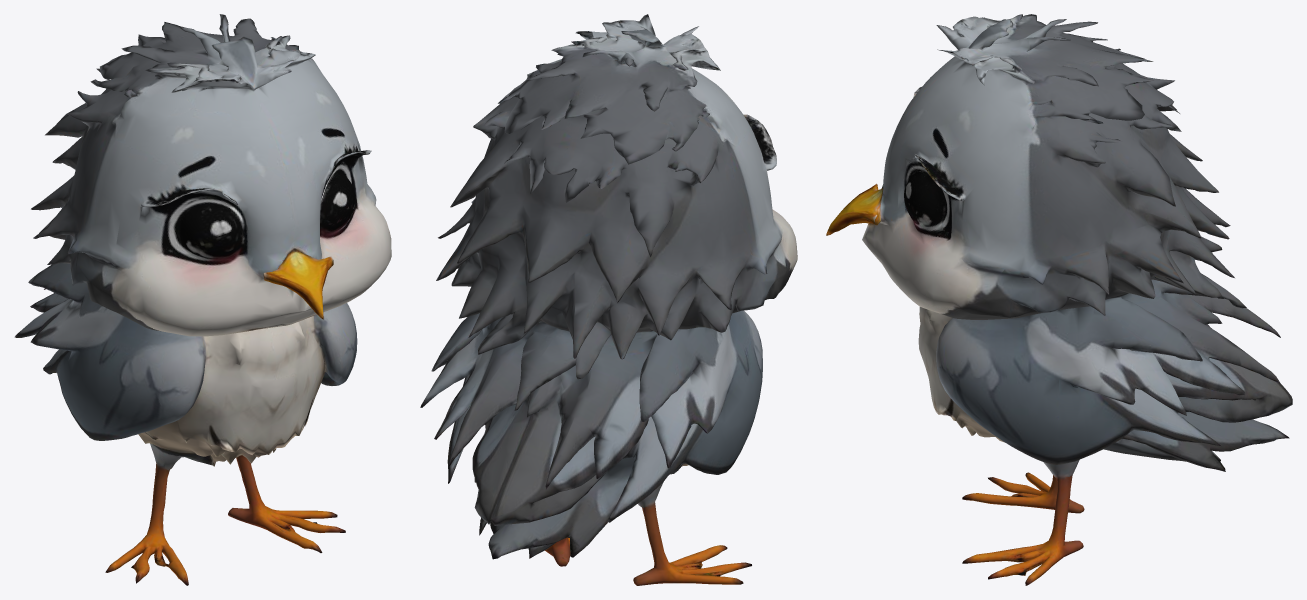
File: balikcil.glb
3 renders of one model, left to right at view 1: azimuth 30°, elevation 25°; view 2: azimuth 150°, elevation 25°; view 3: azimuth 270°, elevation 25°, orthographic.
Visible parts, largest first — view 1: world_1; view 2: world_1; view 3: world_1.
Boxes of the visible parts, bbox=[...] form: world_1: bbox=[14, 14, 391, 585]; world_1: bbox=[420, 14, 797, 585]; world_1: bbox=[826, 14, 1292, 585].
Bounding box in the file's own units: 0.5927 × 0.9915 × 0.8282.
Materials: 1 (1 with a texture image).
